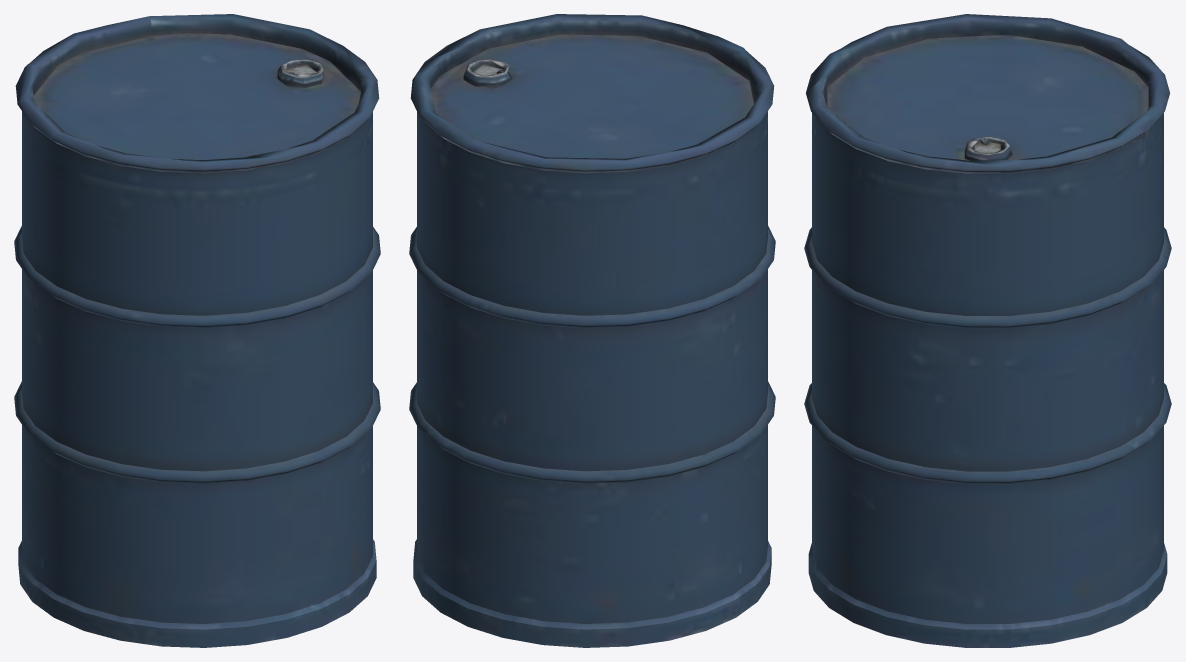
Rendered from barrel_03.glb.
3 renders of one model, left to right at view 1: azimuth 30°, elevation 25°; view 2: azimuth 150°, elevation 25°; view 3: azimuth 270°, elevation 25°, orthographic.
Parts seen in each view (by area): view 1: barrel_03; view 2: barrel_03; view 3: barrel_03.
Boxes of the visible parts, box(x1,y1,x2,y2) form: barrel_03: box(14, 14, 380, 647); barrel_03: box(409, 14, 775, 647); barrel_03: box(804, 14, 1171, 647).
Size of the model in its own units: 0.634 by 0.9305 by 0.6386.
1 material, 1 textured.
